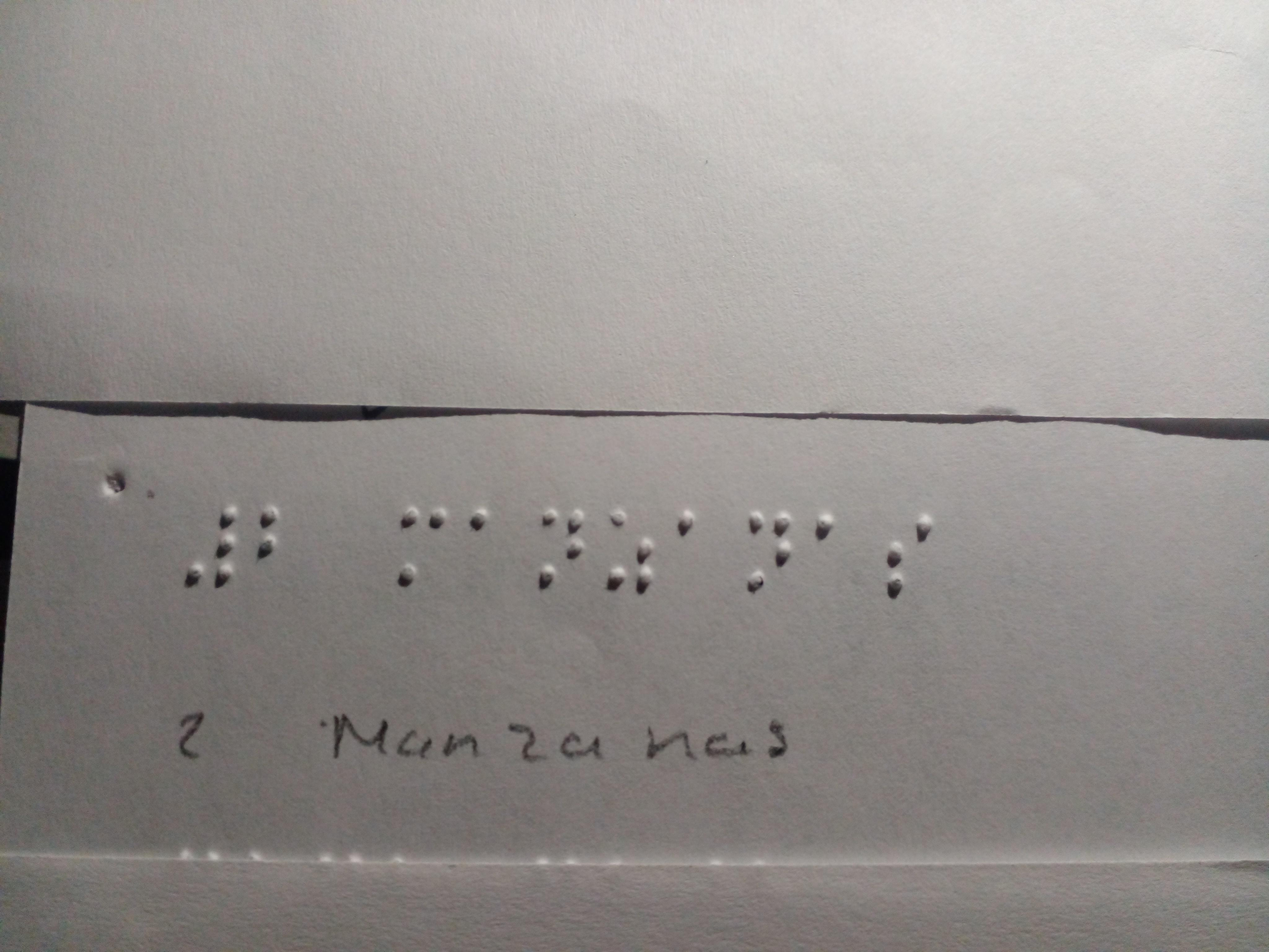02: (173, 494, 304, 595)
a: (465, 497, 502, 558), (807, 500, 846, 553), (671, 502, 709, 544)
m: (390, 500, 451, 592)
n: (734, 510, 798, 598), (530, 505, 587, 598)
s: (878, 504, 936, 603)
z: (606, 510, 657, 604)
